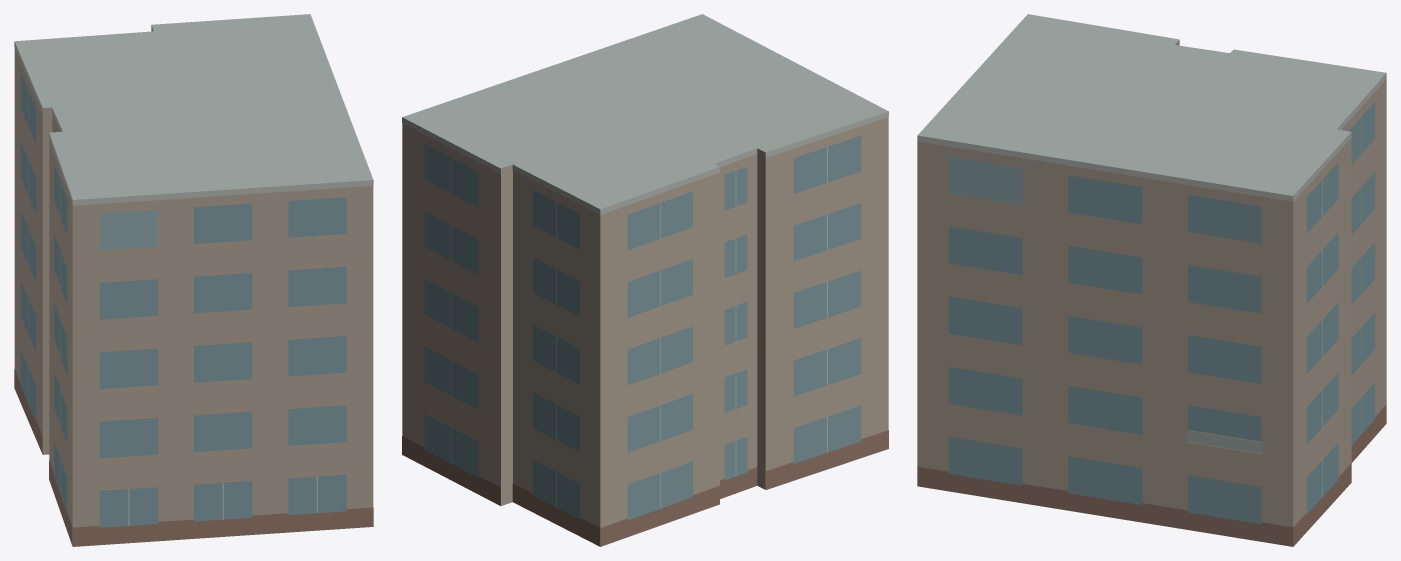
File: survey-upis-32878376.glb
3 views of the same model, side by side, from view 1: azimuth 30°, elevation 25°; view 2: azimuth 150°, elevation 25°; view 3: azimuth 270°, elevation 25° (orthographic). The views are drawn at different scales.
Parts seen in each view (by area): view 1: survey-upis-32878376.tmp; view 2: survey-upis-32878376.tmp; view 3: survey-upis-32878376.tmp.
Part boxes in pixels (<box>): survey-upis-32878376.tmp: <box>14,14,373,546</box>; survey-upis-32878376.tmp: <box>402,14,888,546</box>; survey-upis-32878376.tmp: <box>917,14,1386,546</box>.
Bounding box in the file's own units: 16.26 × 14.6 × 17.71.
